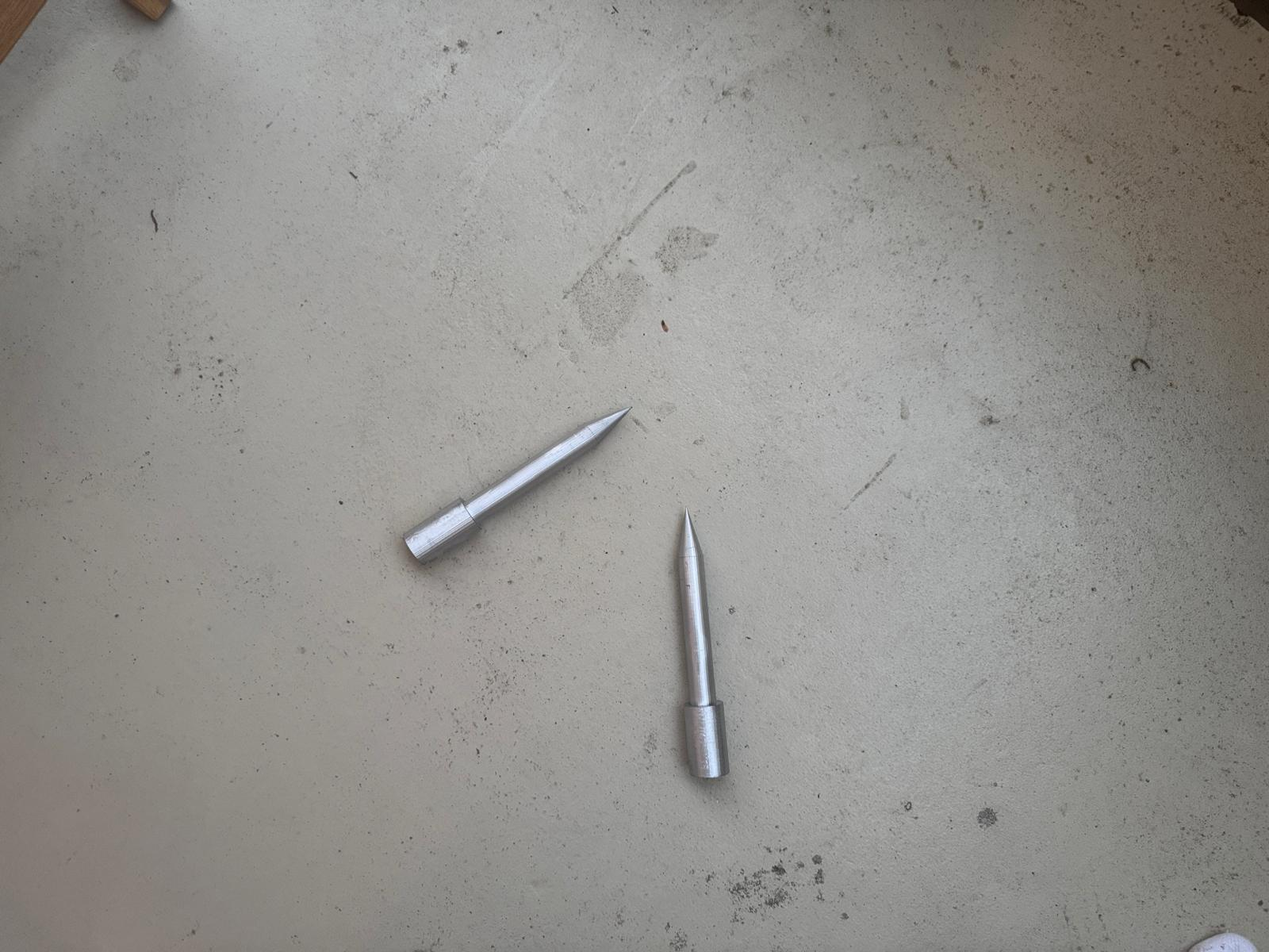probes: (398, 406, 635, 567), (675, 508, 726, 780)
